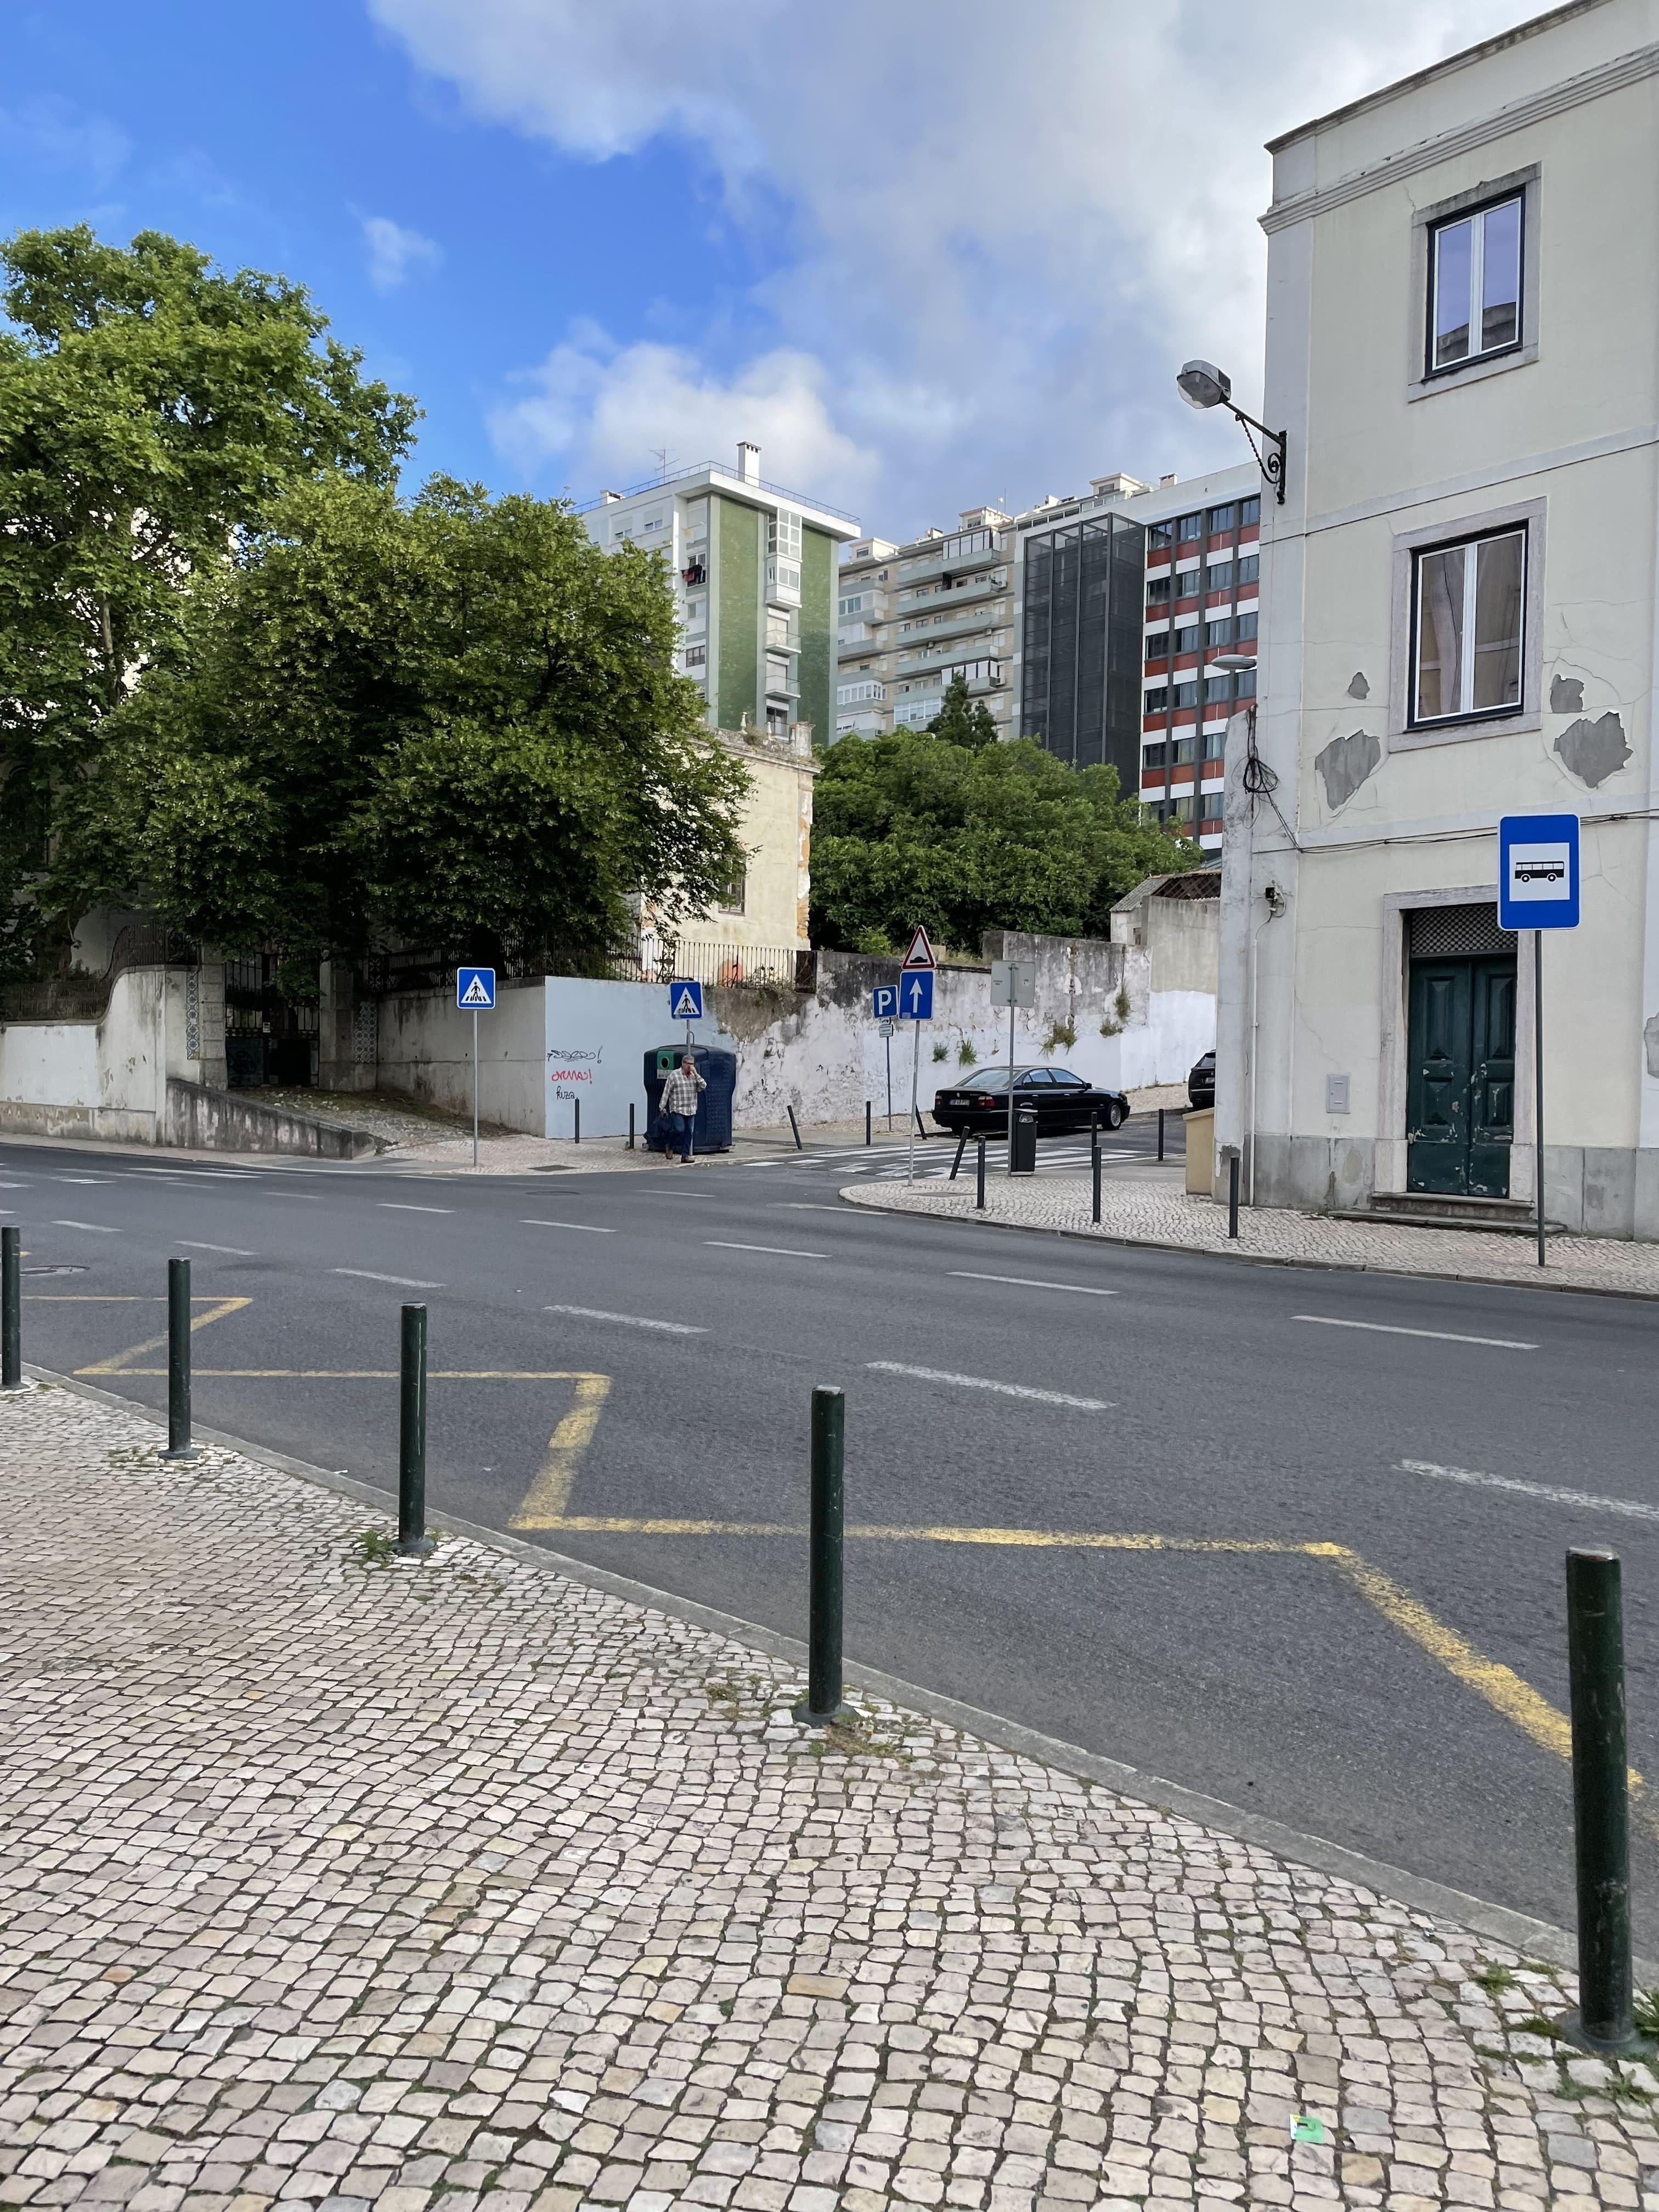Estacionamento autorizado: (868, 984, 899, 1021)
Passagem para peoes: (458, 963, 493, 1017), (674, 981, 706, 1022)
lomba: (899, 927, 936, 967)
transito de sentido unico: (901, 972, 932, 1017)
